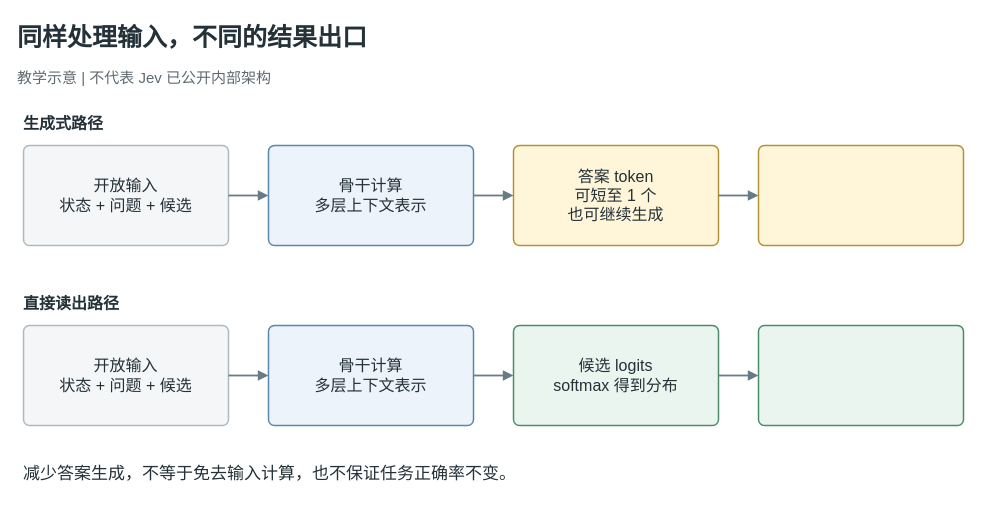
Some shapes in this 986 by 507 pixel diagram are drawn without their labels. Here are the shapes that lost their labels. From the top down, the centre of each, then its label:
At point 860,195: "解析 / 映射 软件消费结果".
At point 860,375: "程序封装 标签 + 概率".
